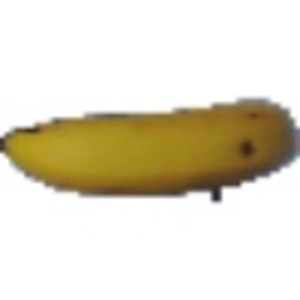banana: (3, 94, 298, 207)
